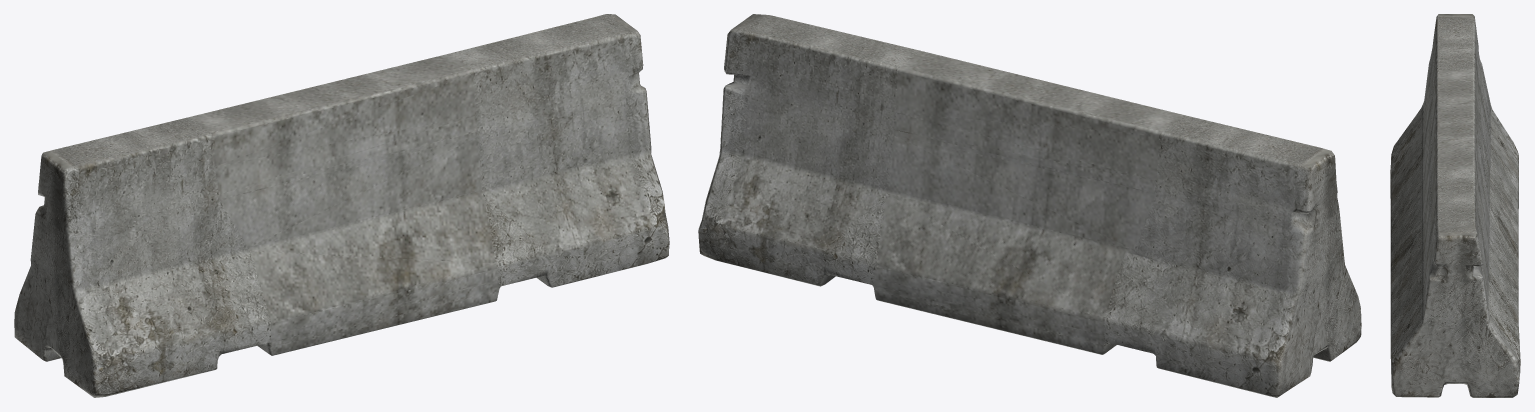
3 views of the same model, side by side, from view 1: azimuth 30°, elevation 25°; view 2: azimuth 150°, elevation 25°; view 3: azimuth 270°, elevation 25° (orthographic). The views are drawn at different scales.
Bounding box in the file's own units: 0.9575 × 0.3311 × 0.2373.
1 material, 1 textured.
